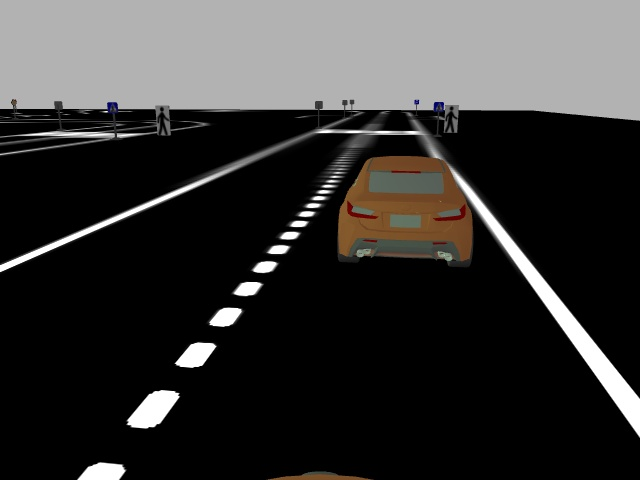pedestrian: (153, 102, 173, 138), (444, 102, 459, 134)
